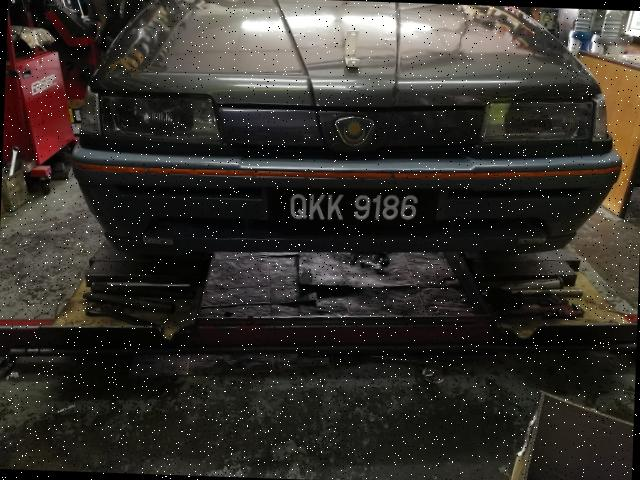License_Plate: (280, 190, 422, 231)
car: (65, 1, 635, 278)
